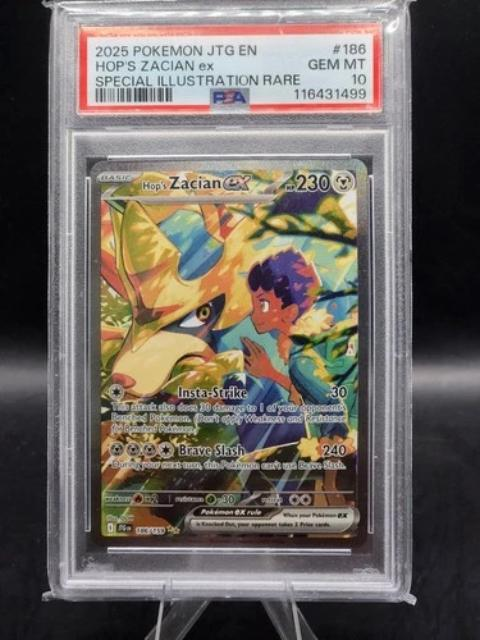Card: (86, 152, 376, 554)
Name: (136, 170, 257, 197)
